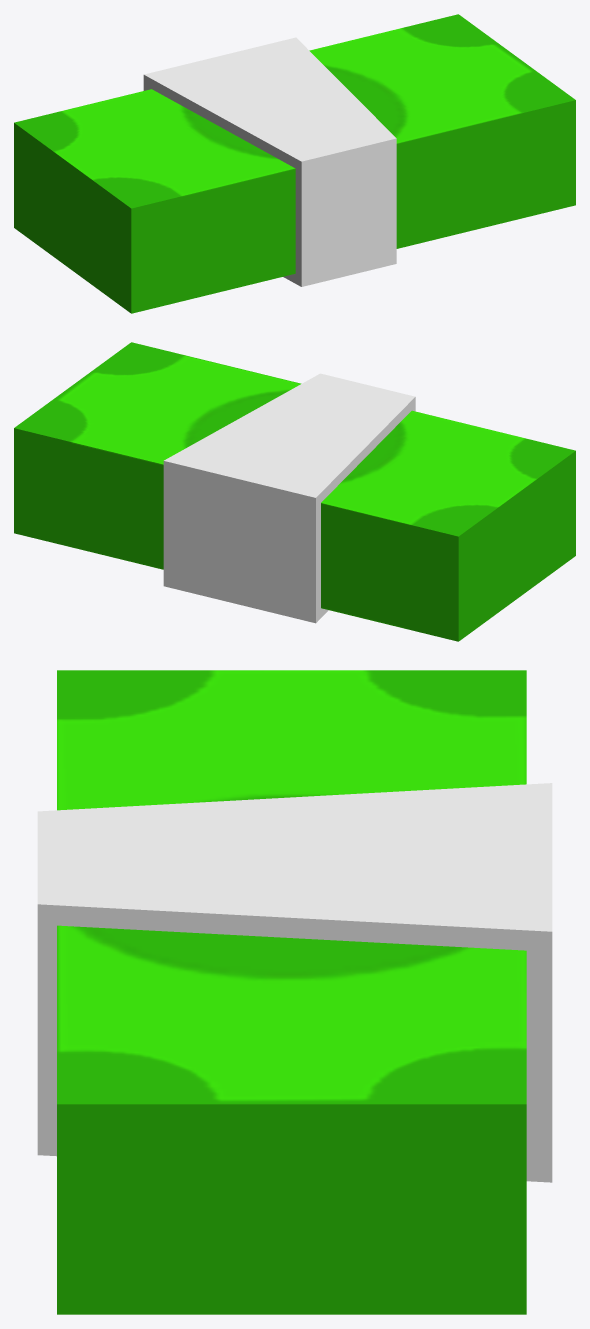
The model's file is money.fbx.
3 renders of one model, top to bottom at view 1: azimuth 30°, elevation 25°; view 2: azimuth 150°, elevation 25°; view 3: azimuth 270°, elevation 25°, orthographic. The views are drawn at different scales.
Visible parts, largest first — view 1: MoneyStack; view 2: MoneyStack; view 3: MoneyStack.
Boxes of the visible parts, x1,y1,x2,y2 form: MoneyStack: (14, 14, 575, 313); MoneyStack: (14, 342, 575, 641); MoneyStack: (37, 670, 552, 1314).
Size of the model in its own units: 70.82 by 19.09 by 35.5.
2 materials, 1 textured.
